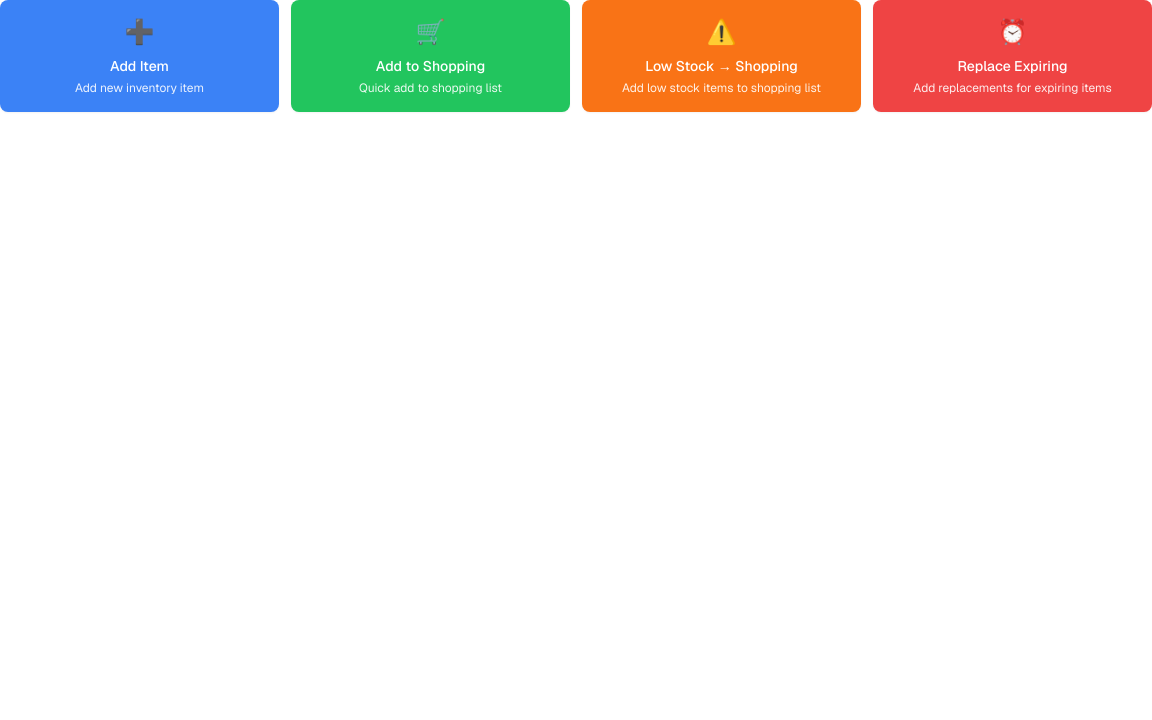
Test: QuickActionsPanel › opens add to shopping modal when clicked
Click the text "Add to Shopping": point(430, 66) x1=376 y1=57 x2=485 y2=75
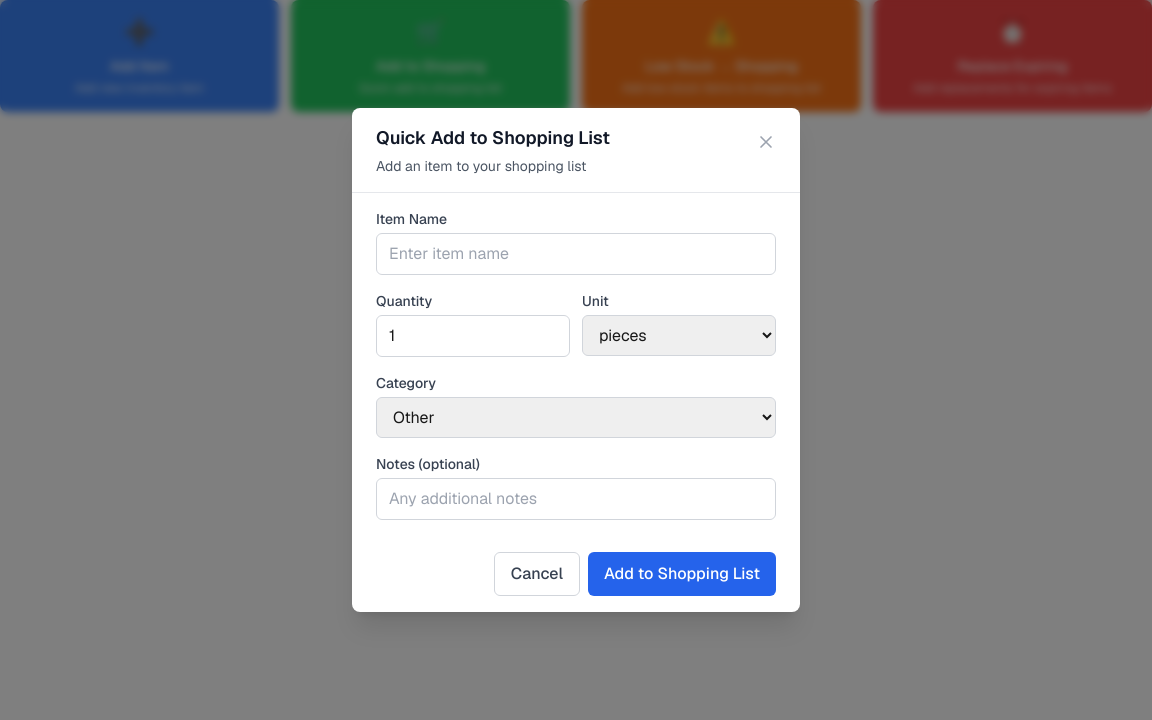
Check: the heading "Quick Add to Shopping List" is shown, box x1=376 y1=126 x2=610 y2=149
Check: the text "Add an item to your shopping list" is shown, box x1=376 y1=157 x2=587 y2=175
